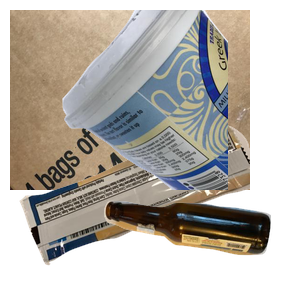cardboard: (10, 10, 250, 190)
glass: (101, 198, 300, 300)
plastic: (60, 10, 300, 190)
trash: (17, 123, 257, 300)
